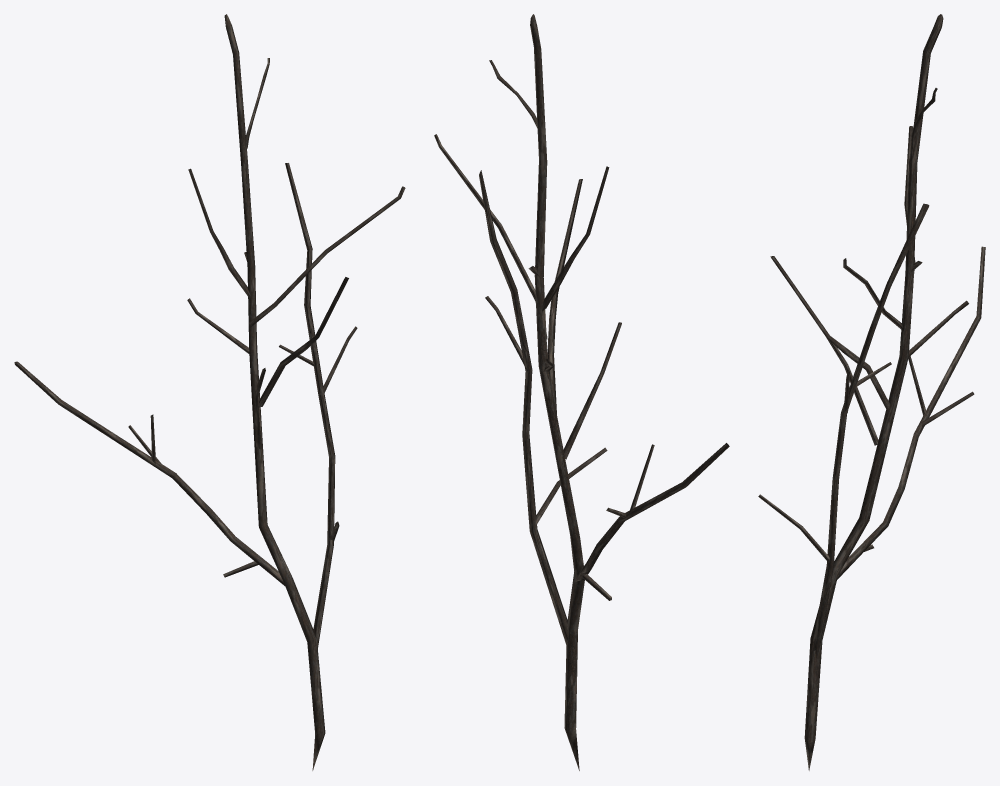
Rendered from Branch_deadwood3_LOD3.fbx.
The picture shows the model from 3 angles, left to right: view 1: azimuth 30°, elevation 25°; view 2: azimuth 150°, elevation 25°; view 3: azimuth 270°, elevation 25°; orthographic projection. The views are drawn at different scales.
Visible parts, largest first — view 1: polySurface12; view 2: polySurface12; view 3: polySurface12.
Part boxes in pixels (x1=…): polySurface12: x1=14, y1=14, x2=405, y2=770; polySurface12: x1=434, y1=14, x2=729, y2=770; polySurface12: x1=758, y1=14, x2=985, y2=770.
Size of the model in its own units: 139 by 293 by 80.98.
